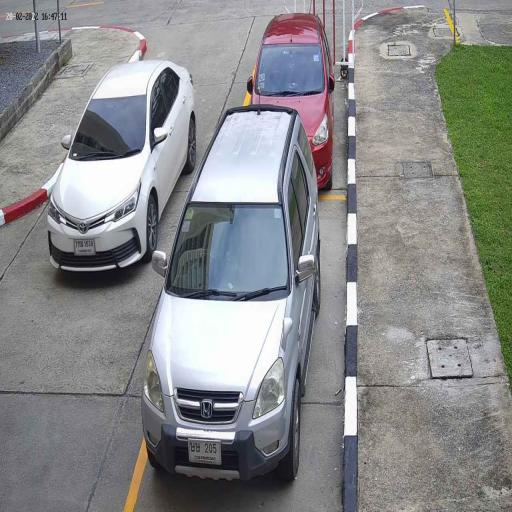car: (142, 104, 321, 484), (46, 59, 198, 273), (248, 11, 334, 192)
